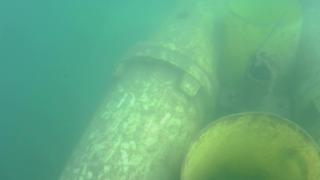pipe: (56, 1, 222, 179), (179, 111, 320, 180), (221, 1, 305, 103), (293, 1, 320, 119)
